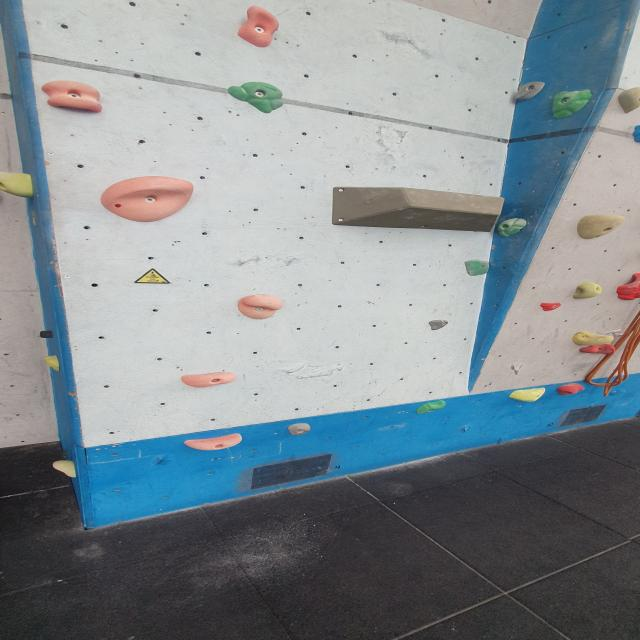Crimp: (226, 83, 286, 116), (183, 433, 245, 454), (180, 374, 240, 389), (513, 79, 547, 102), (495, 216, 529, 237), (511, 386, 547, 403), (416, 399, 450, 415), (538, 302, 561, 314)
Jug: (42, 82, 106, 115), (236, 6, 283, 48), (574, 213, 627, 241), (237, 296, 287, 321), (614, 272, 640, 302), (572, 281, 606, 300)
Pinch: (548, 88, 594, 121), (462, 259, 491, 278), (286, 423, 314, 436)
Sloper: (97, 179, 199, 224), (0, 170, 36, 198), (570, 330, 617, 348), (555, 382, 584, 397)
